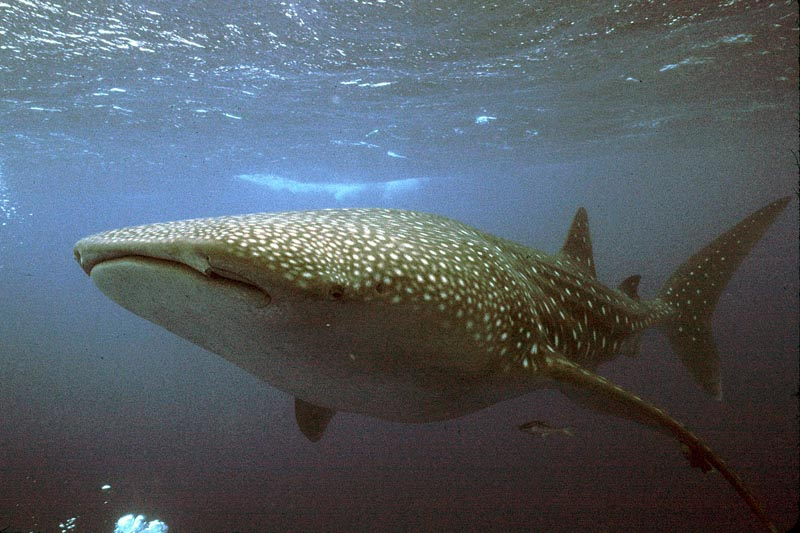Rhincodon_typusw: (59, 181, 782, 479)
